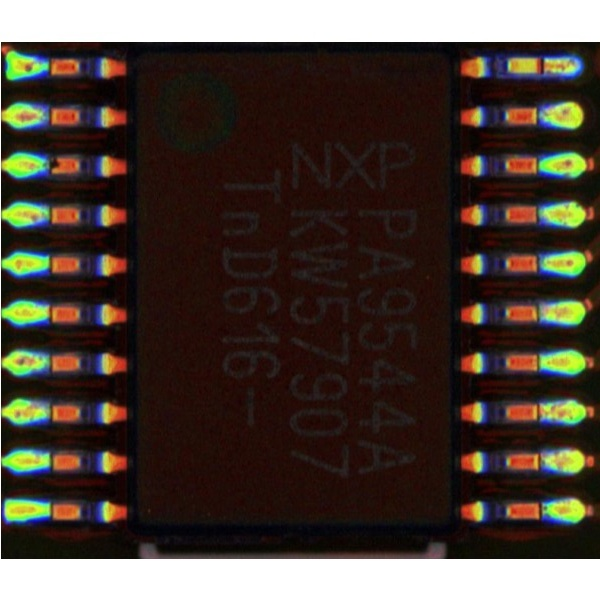Bad_podu: (530, 59, 556, 74), (528, 407, 550, 420)
